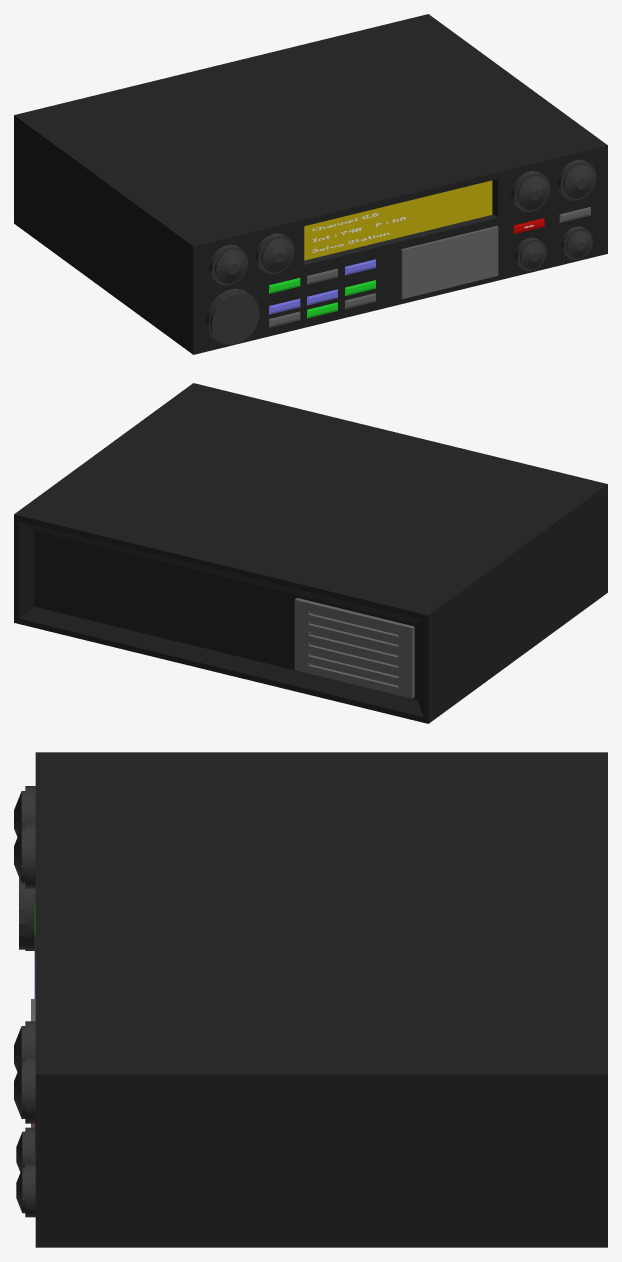
File: Radio.fbx
The picture shows the model from 3 angles, top to bottom: view 1: azimuth 30°, elevation 25°; view 2: azimuth 150°, elevation 25°; view 3: azimuth 270°, elevation 25°; orthographic projection. The views are drawn at different scales.
Visible parts, largest first — view 1: Box001; view 2: Box001; view 3: Box001.
Part boxes in pixels (x1=…): Box001: x1=14, y1=14, x2=607, y2=354; Box001: x1=14, y1=383, x2=607, y2=723; Box001: x1=14, y1=752, x2=607, y2=1247.
Bounding box in the file's own units: 40 × 10 × 31.13.
Materials: 7 (7 with a texture image).
